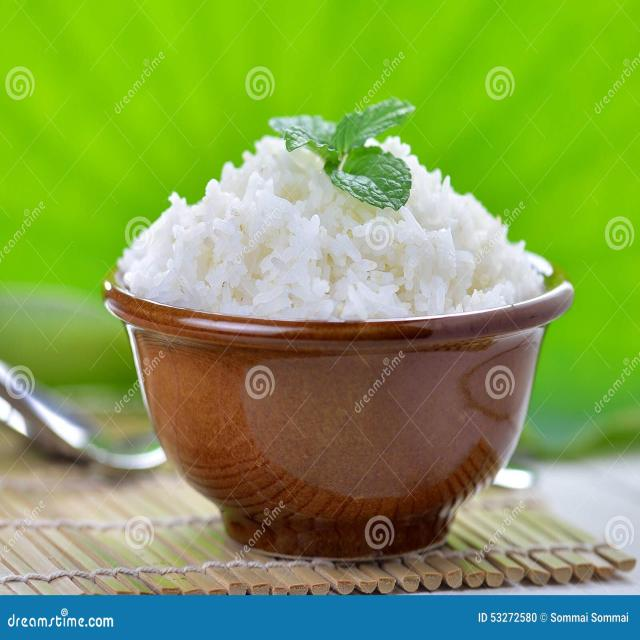arroz: (119, 95, 557, 420)
